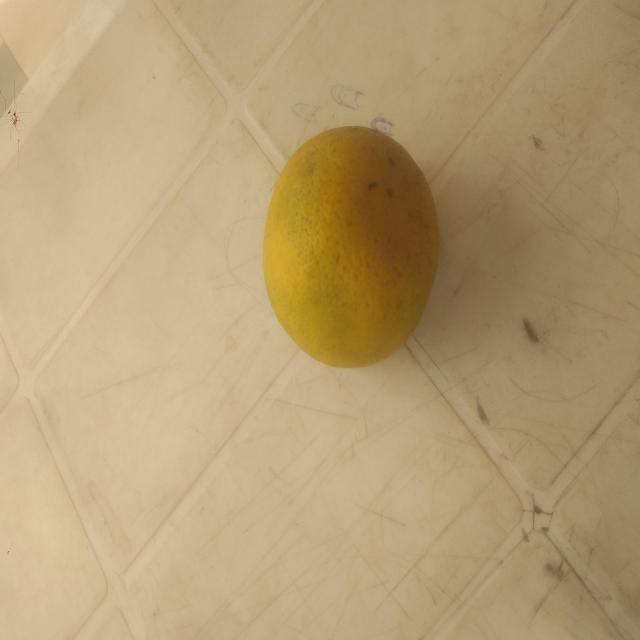Ripe orange: (252, 109, 466, 410)
